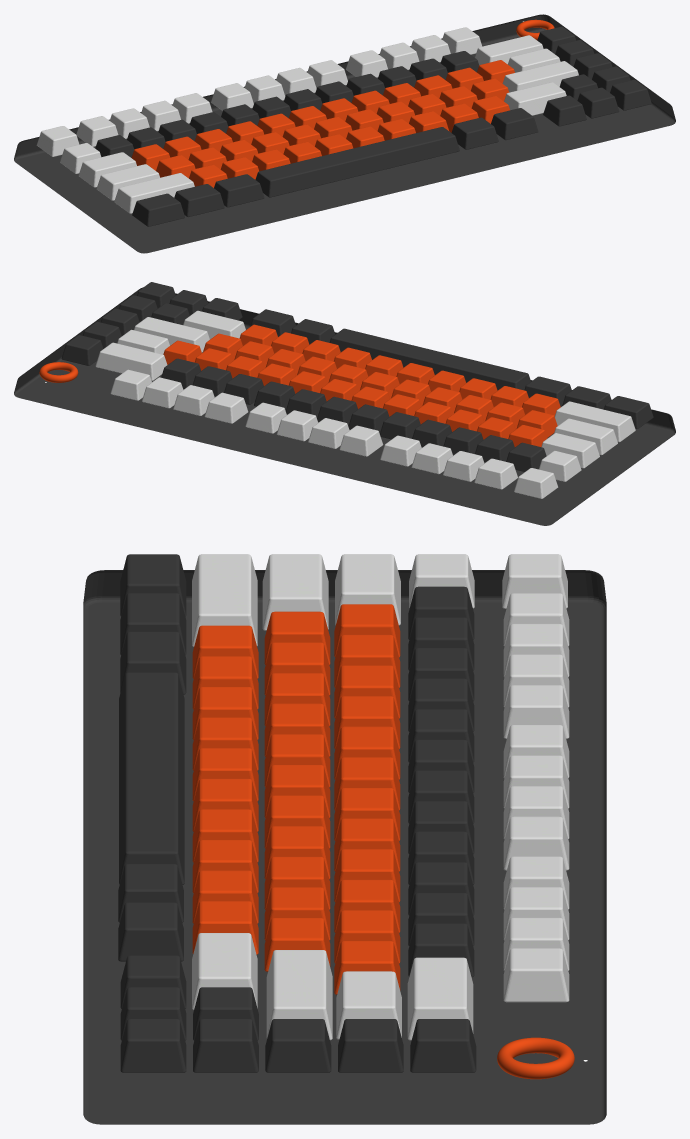
The model's file is keyboard-transformed.glb.
3 views of the same model, one above another, from view 1: azimuth 30°, elevation 25°; view 2: azimuth 150°, elevation 25°; view 3: azimuth 270°, elevation 25° (orthographic). The views are drawn at different scales.
Visible parts, largest first — view 1: Cube, Plane; view 2: Cube, Plane; view 3: Cube, Plane.
Part boxes in pixels (left/top/right/bottom): Cube: left=36, top=19, right=651, bottom=226; Plane: left=14, top=14, right=675, bottom=253; Cube: left=39, top=282, right=653, bottom=498; Plane: left=14, top=287, right=675, bottom=525; Cube: left=118, top=554, right=574, bottom=1079; Plane: left=83, top=570, right=606, bottom=1124.
Bounding box in the file's own units: 3.93 × 0.2286 × 1.65.
Materials: 3 (3 with a texture image).
